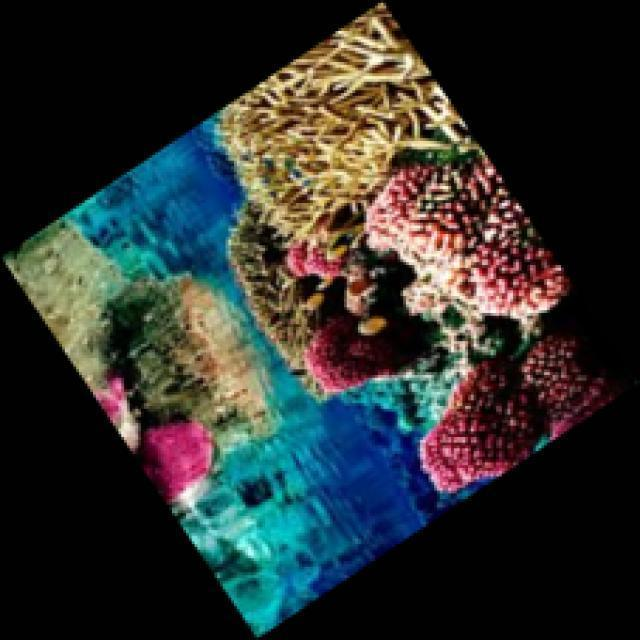Dead Coral: (232, 201, 309, 355)
